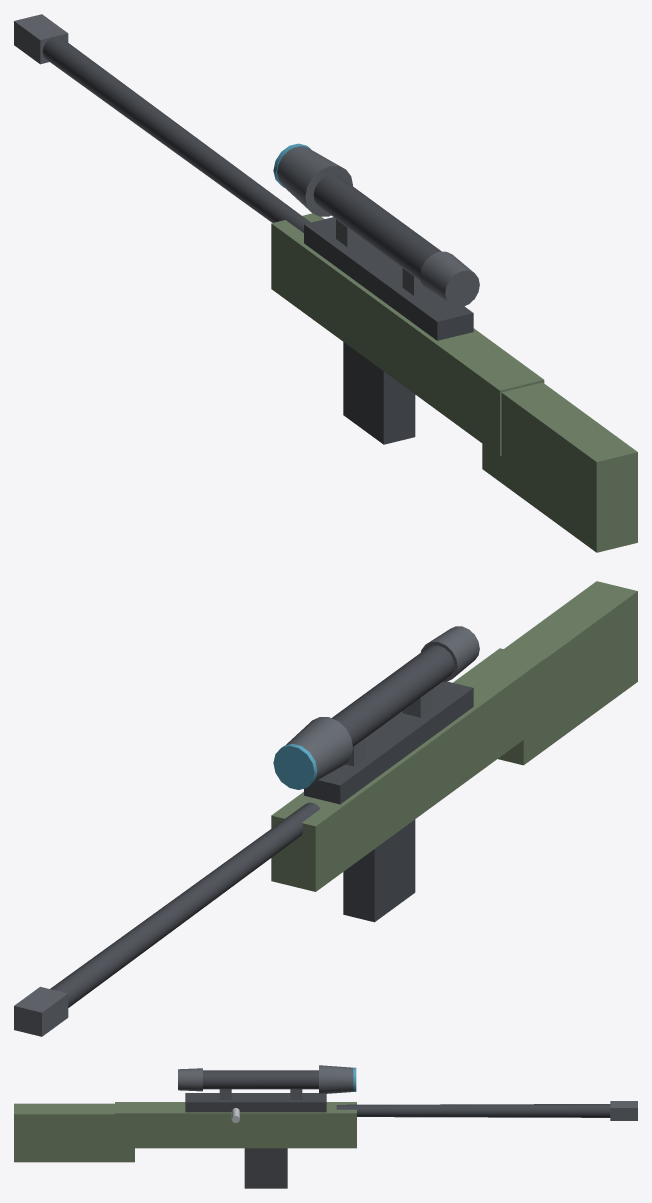
The model's file is awp.glb.
3 views of the same model, one above another, from view 1: azimuth 30°, elevation 25°; view 2: azimuth 150°, elevation 25°; view 3: azimuth 270°, elevation 25° (orthographic). The views are drawn at different scales.
Visible parts, largest first — view 1: awp; view 2: awp; view 3: awp.
Boxes of the visible parts, x1=… form: awp: x1=14, y1=14, x2=637, y2=552; awp: x1=14, y1=581, x2=637, y2=1036; awp: x1=14, y1=1065, x2=637, y2=1188.
Size of the model in its own units: 0.089 by 0.2585 by 1.24.
